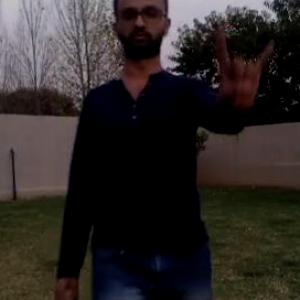takeoff-hand: (208, 31, 279, 109)
